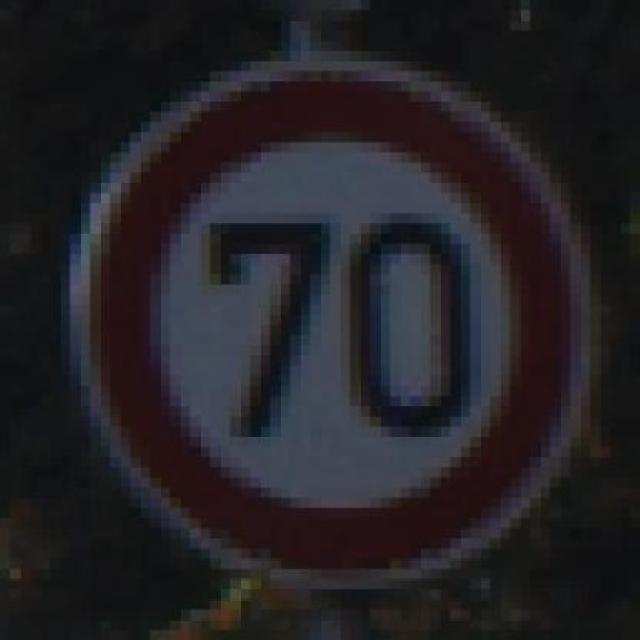forb_speed_over_70: (83, 62, 589, 586)
